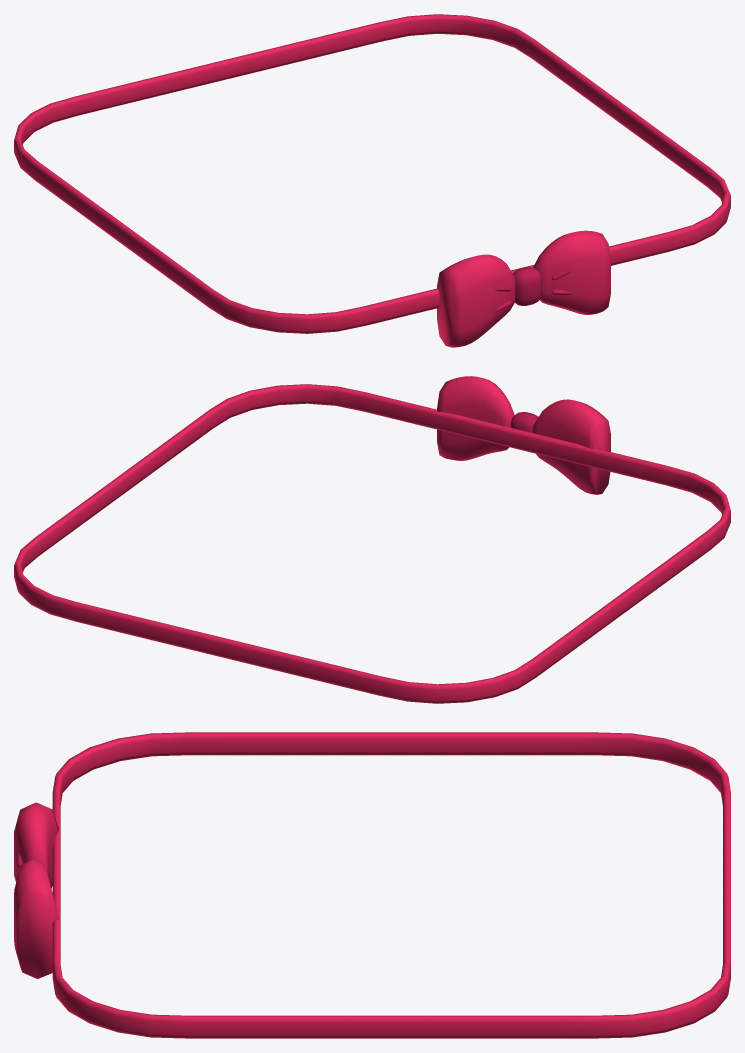
The model's file is bow_tie.glb.
The picture shows the model from 3 angles, top to bottom: view 1: azimuth 30°, elevation 25°; view 2: azimuth 150°, elevation 25°; view 3: azimuth 270°, elevation 25°; orthographic projection. The views are drawn at different scales.
Parts seen in each view (by area): view 1: neckband, wing.001, wing, knot; view 2: neckband, wing.001, wing; view 3: neckband, wing, wing.001.
Boxes of the visible parts, x1,y1,x2,y2 form: neckband: (14, 14, 730, 333); wing.001: (437, 254, 515, 347); wing: (533, 230, 610, 314); knot: (513, 267, 541, 305); neckband: (14, 384, 730, 703); wing.001: (532, 399, 610, 494); wing: (437, 376, 514, 460); neckband: (52, 732, 730, 1038); wing: (14, 859, 58, 978); wing.001: (14, 802, 58, 888).
Size of the model in its own units: 1.29 by 0.2144 by 1.36.
